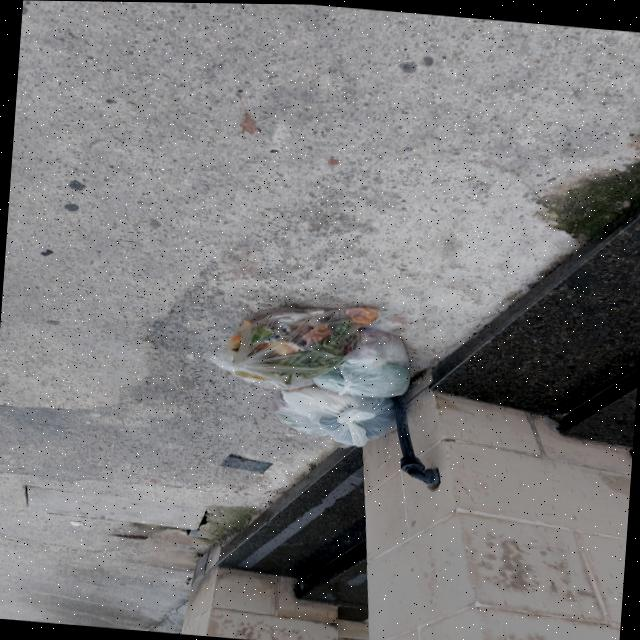Organic Waste -White Bag-: (200, 292, 382, 397), (269, 376, 403, 452), (311, 316, 414, 400)
